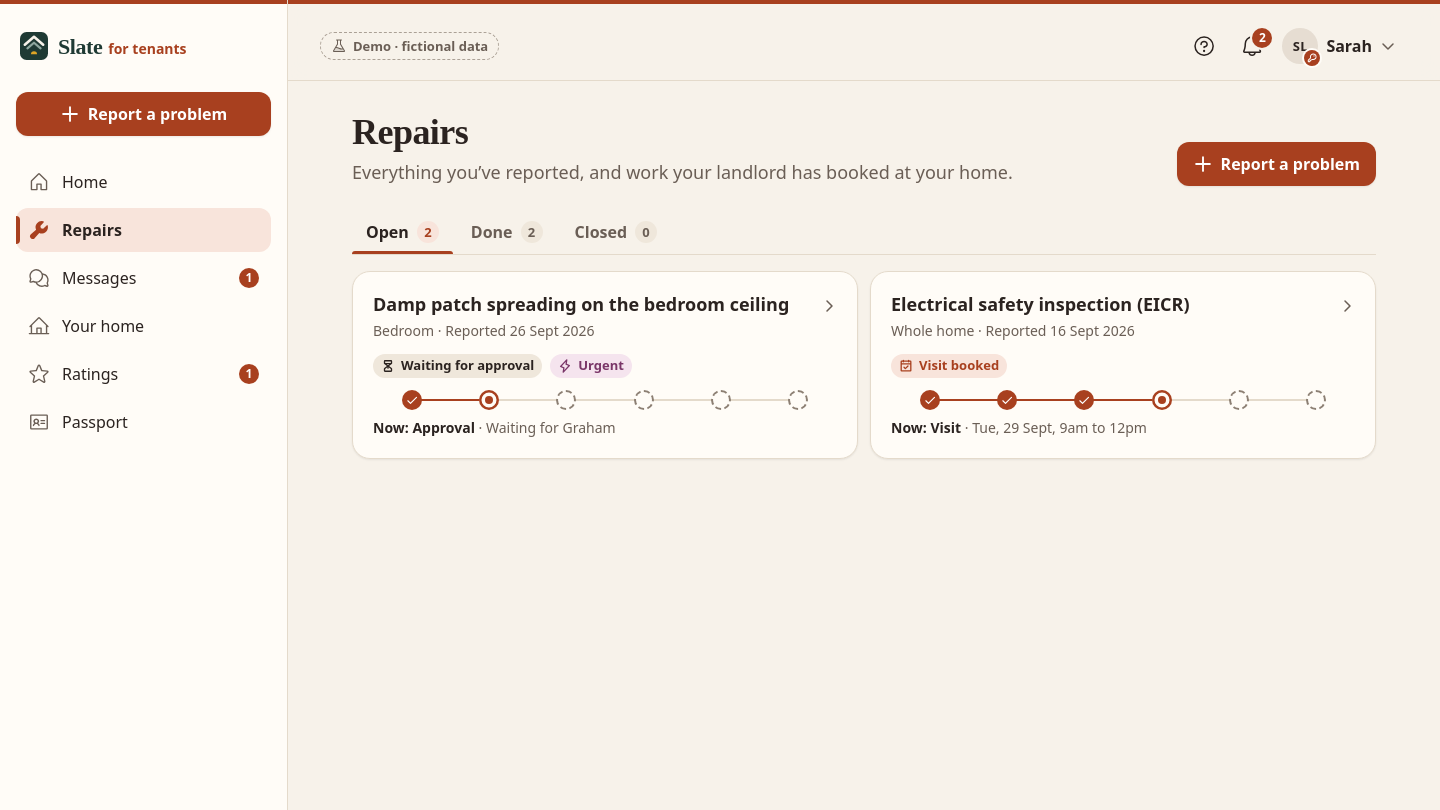
Test: repairs › splits repairs into tabs with a count on each, and a heading for each list
This screenshot has width=1440, height=810.
Expected: the link "Damp patch spreading on the bedroom ceiling" is shown, [373,292,789,316]
What coordinates should you click on to do the following:
click the tab "Done 2"
I would click on:
 (507, 232)
Its box is [457,210,556,254].
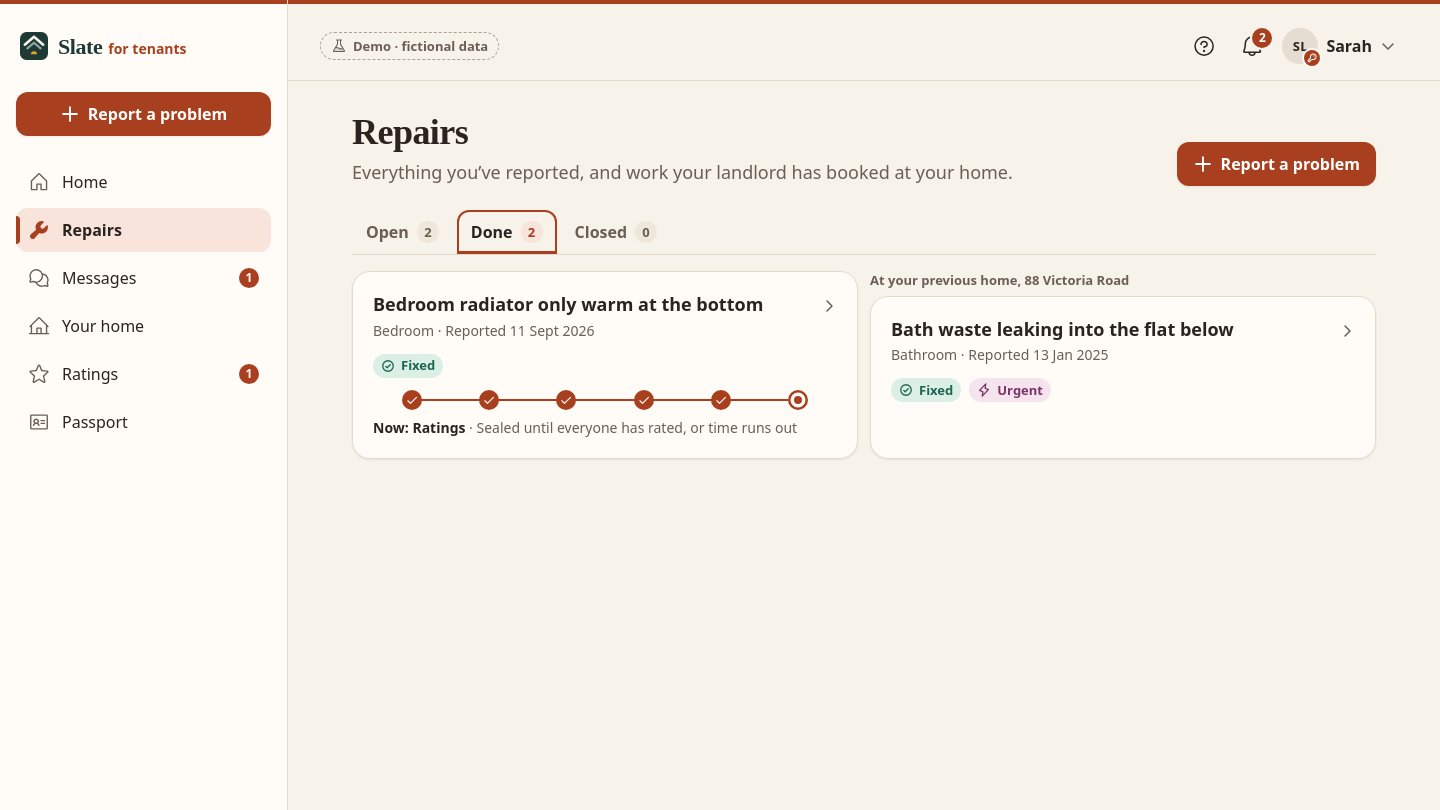
Now the link "Bedroom radiator only warm at the bottom" is shown, box [373,292,763,316]
Now the text "At your previous home, 88 Victoria Road" is shown, box [870,272,1129,290]
